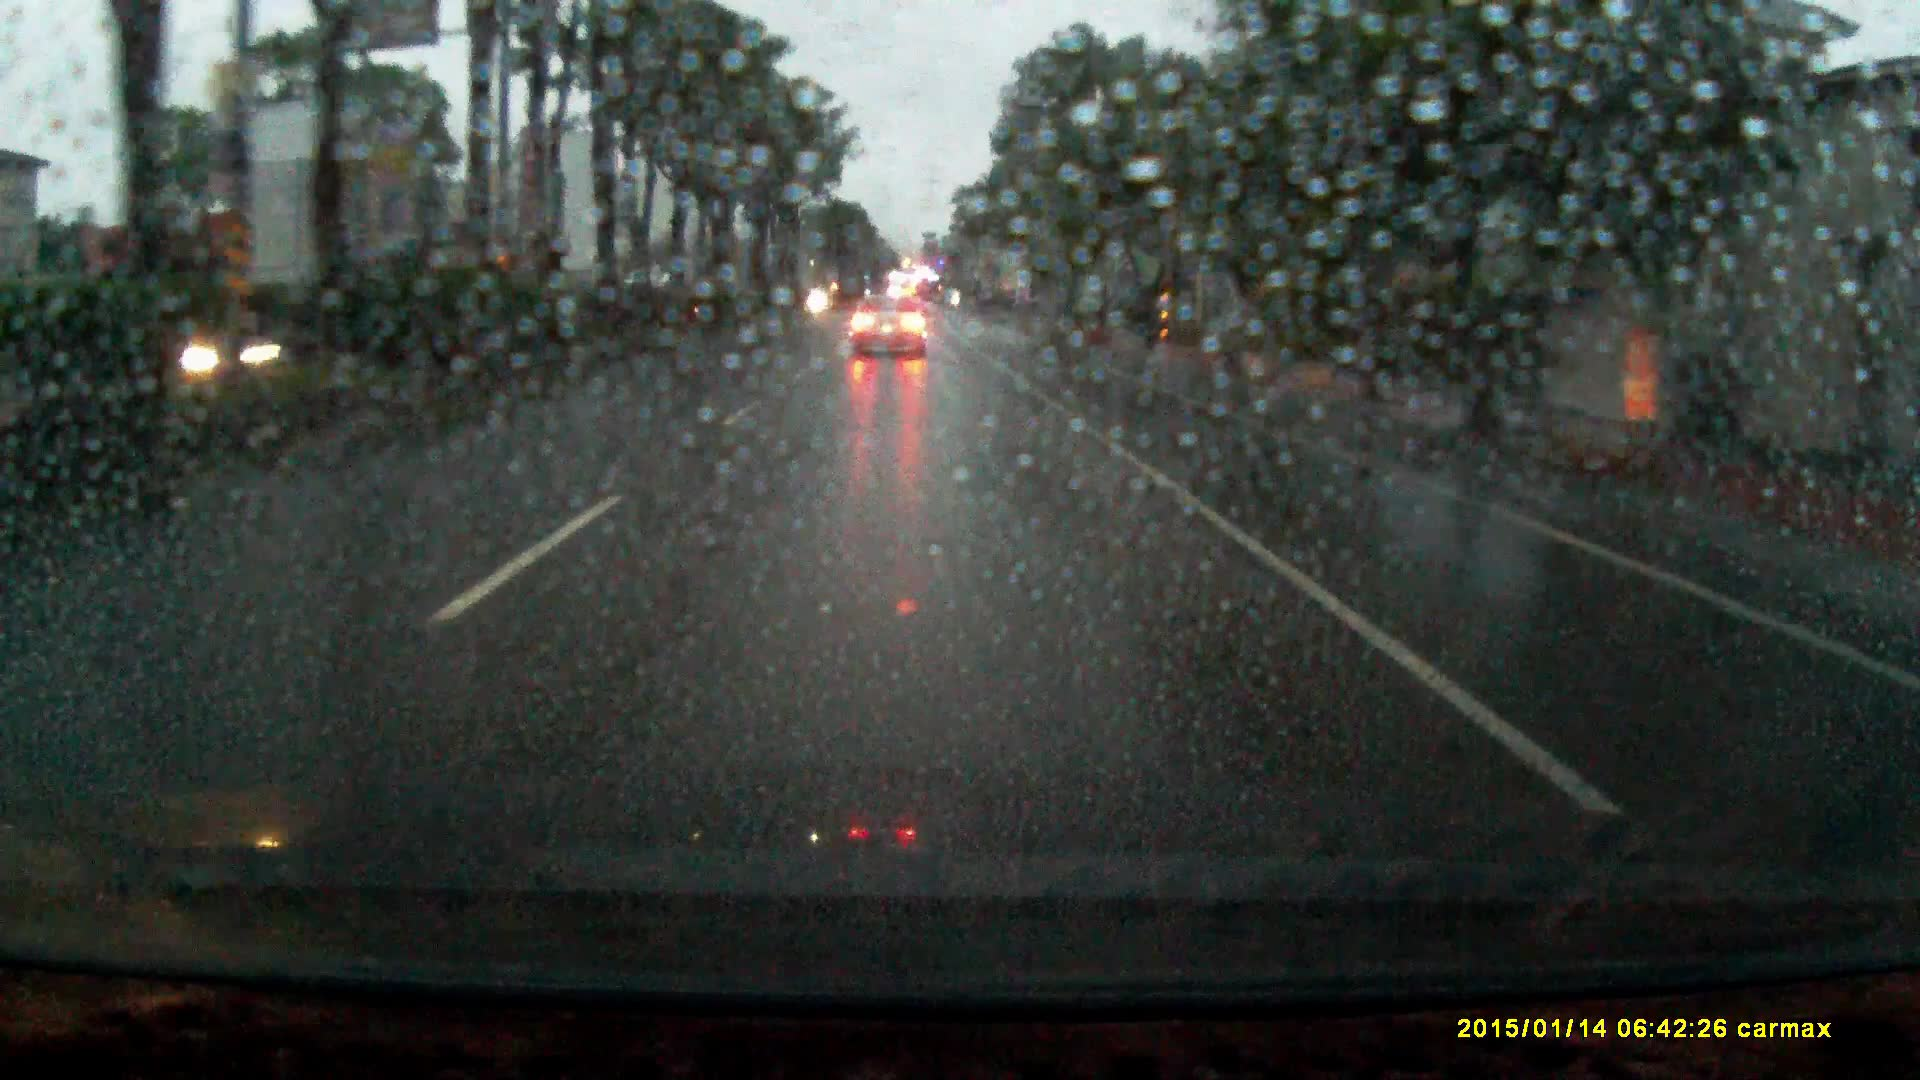vehicle: (178, 311, 331, 377), (848, 289, 930, 359)
